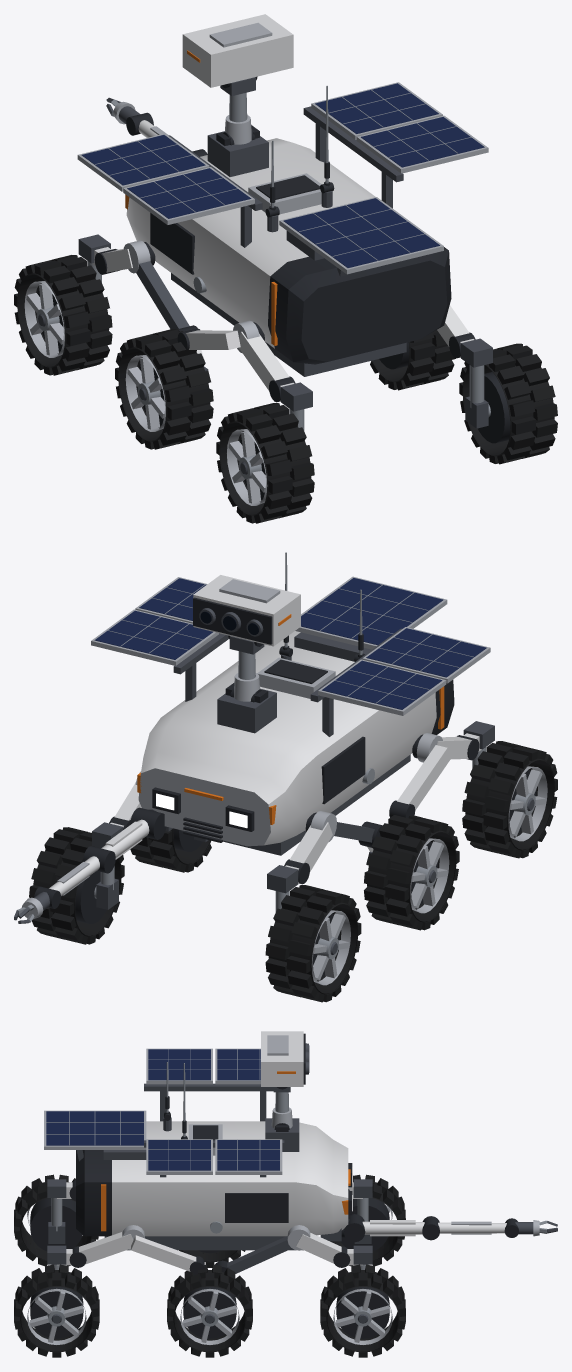
Rendered from rover-orv7.glb.
The picture shows the model from 3 angles, top to bottom: view 1: azimuth 30°, elevation 25°; view 2: azimuth 150°, elevation 25°; view 3: azimuth 270°, elevation 25°; orthographic projection. The views are drawn at different scales.
Parts seen in each view (by area): view 1: Body, Wheel_FL, Wheel_RL, Wheel_ML, Wheel_RR, Head, Panel_L2, Panel_R2, Panel_L1, Panel_R1, Wheel_MR, Leg_RL (+6 smaller); view 2: Body, Wheel_FL, Wheel_RL, Wheel_ML, Wheel_FR, Head, Panel_L1, Panel_R1, Panel_L2, Leg_FL, Wheel_MR, Leg_FR (+9 smaller); view 3: Body, Wheel_FR, Wheel_RR, Wheel_MR, Wheel_RL, Head, Panel_R1, Panel_L2, Panel_R2, Wheel_FL, Leg_RR, Leg_FR (+11 smaller).
Boxes of the visible parts, left/top/right/bottom form: Body: left=125, top=106, right=451, bottom=376; Wheel_FL: left=14, top=255, right=112, bottom=375; Wheel_RL: left=216, top=403, right=314, bottom=523; Wheel_ML: left=115, top=329, right=213, bottom=449; Wheel_RR: left=459, top=343, right=557, bottom=464; Head: left=182, top=14, right=293, bottom=88; Panel_L2: left=123, top=167, right=254, bottom=224; Panel_R2: left=356, top=115, right=488, bottom=173; Panel_L1: left=77, top=133, right=209, bottom=191; Panel_R1: left=311, top=82, right=442, bottom=139; Wheel_MR: left=370, top=330, right=455, bottom=390; Leg_RL: left=233, top=320, right=312, bottom=430; Body: left=137, top=576, right=454, bottom=855; Wheel_FL: left=265, top=885, right=361, bottom=1002; Wheel_RL: left=462, top=741, right=557, bottom=858; Wheel_ML: left=364, top=815, right=459, bottom=930; Wheel_FR: left=29, top=827, right=124, bottom=944; Head: left=193, top=575, right=300, bottom=646; Panel_L1: left=318, top=659, right=446, bottom=715; Panel_R1: left=91, top=609, right=218, bottom=665; Panel_L2: left=362, top=627, right=490, bottom=683; Leg_FL: left=267, top=811, right=336, bottom=911; Wheel_MR: left=130, top=828, right=211, bottom=872; Leg_FR: left=92, top=771, right=141, bottom=909; Body: left=44, top=1083, right=352, bottom=1250; Wheel_FR: left=320, top=1264, right=405, bottom=1357; Wheel_RR: left=14, top=1264, right=99, bottom=1357; Wheel_MR: left=167, top=1264, right=252, bottom=1357; Wheel_RL: left=14, top=1174, right=98, bottom=1266; Head: left=261, top=1031, right=309, bottom=1089; Panel_R1: left=215, top=1139, right=282, bottom=1174; Panel_L2: left=146, top=1048, right=212, bottom=1084; Panel_R2: left=146, top=1139, right=212, bottom=1174; Wheel_FL: left=330, top=1174, right=405, bottom=1266; Leg_RR: left=47, top=1225, right=144, bottom=1269; Leg_FR: left=287, top=1225, right=372, bottom=1269.
Size of the model in its own units: 1.32 by 1.35 by 2.56.
